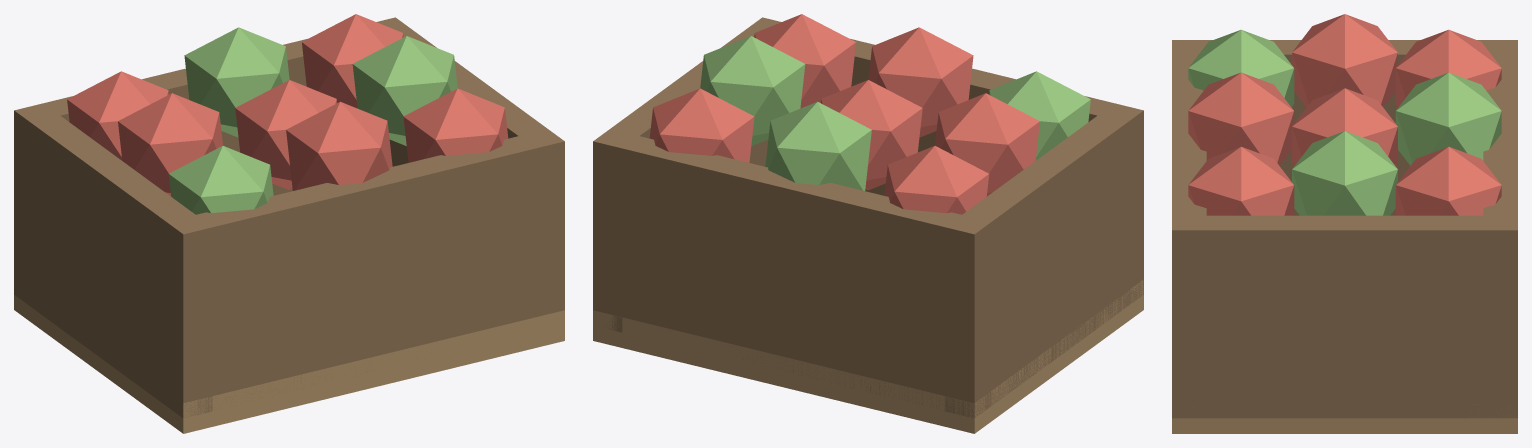
The model's file is CrateOpen.glb.
The picture shows the model from 3 angles, left to right: view 1: azimuth 30°, elevation 25°; view 2: azimuth 150°, elevation 25°; view 3: azimuth 270°, elevation 25°; orthographic projection. The views are drawn at different scales.
Visible parts, largest first — view 1: CrateOpen_Side, CrateOpen_End, CrateOpen_Bottom, CrateOpen_Apple.003, CrateOpen_Apple.007, CrateOpen_Apple.005, CrateOpen_Apple.001, CrateOpen_Apple.006, CrateOpen_Apple, CrateOpen_Apple.004, CrateOpen_Apple.008, CrateOpen_Apple.002 (+2 smaller); view 2: CrateOpen_Side.001, CrateOpen_End, CrateOpen_Bottom, CrateOpen_End.001, CrateOpen_Apple.005, CrateOpen_Apple.007, CrateOpen_Apple.003, CrateOpen_Apple.001, CrateOpen_Apple.008, CrateOpen_Apple.002, CrateOpen_Apple.004, CrateOpen_Apple.006 (+2 smaller); view 3: CrateOpen_End.001, CrateOpen_Apple.007, CrateOpen_Apple.001, CrateOpen_Apple.003, CrateOpen_Apple.005, CrateOpen_Apple.006, CrateOpen_Apple.008, CrateOpen_Bottom, CrateOpen_Apple.004, CrateOpen_Apple, CrateOpen_Apple.002, CrateOpen_Side (+2 smaller).
Part boxes in pixels (left/top/right/bottom): CrateOpen_Side: left=167, top=135, right=564, bottom=414; CrateOpen_End: left=14, top=103, right=212, bottom=417; CrateOpen_Bottom: left=14, top=295, right=564, bottom=433; CrateOpen_Apple.003: left=286, top=101, right=392, bottom=190; CrateOpen_Apple.007: left=352, top=36, right=457, bottom=145; CrateOpen_Apple.005: left=184, top=27, right=289, bottom=137; CrateOpen_Apple.001: left=118, top=93, right=222, bottom=196; CrateOpen_Apple.006: left=403, top=88, right=508, bottom=162; CrateOpen_Apple: left=168, top=146, right=273, bottom=214; CrateOpen_Apple.004: left=235, top=80, right=336, bottom=190; CrateOpen_Apple.008: left=302, top=14, right=403, bottom=108; CrateOpen_Apple.002: left=67, top=71, right=168, bottom=160; CrateOpen_Side.001: left=593, top=136, right=991, bottom=415; CrateOpen_End: left=945, top=103, right=1143, bottom=418; CrateOpen_Bottom: left=593, top=279, right=1143, bottom=433; CrateOpen_End.001: left=593, top=17, right=780, bottom=332; CrateOpen_Apple.005: left=765, top=101, right=871, bottom=190; CrateOpen_Apple.007: left=700, top=36, right=805, bottom=145; CrateOpen_Apple.003: left=868, top=27, right=973, bottom=137; CrateOpen_Apple.001: left=935, top=93, right=1039, bottom=196; CrateOpen_Apple.008: left=649, top=88, right=754, bottom=162; CrateOpen_Apple.002: left=884, top=146, right=989, bottom=214; CrateOpen_Apple.004: left=821, top=80, right=922, bottom=190; CrateOpen_Apple.006: left=754, top=14, right=855, bottom=108; CrateOpen_End.001: left=1172, top=215, right=1517, bottom=418; CrateOpen_Apple.007: left=1292, top=131, right=1397, bottom=215; CrateOpen_Apple.001: left=1292, top=14, right=1397, bottom=107; CrateOpen_Apple.003: left=1188, top=72, right=1294, bottom=165; CrateOpen_Apple.005: left=1395, top=72, right=1501, bottom=165; CrateOpen_Apple.006: left=1188, top=146, right=1294, bottom=215; CrateOpen_Apple.008: left=1395, top=146, right=1501, bottom=215; CrateOpen_Bottom: left=1172, top=404, right=1517, bottom=433; CrateOpen_Apple.004: left=1292, top=88, right=1397, bottom=165; CrateOpen_Apple: left=1188, top=29, right=1294, bottom=106; CrateOpen_Apple.002: left=1395, top=29, right=1501, bottom=106; CrateOpen_Side: left=1172, top=40, right=1206, bottom=315.
Size of the model in its own units: 1.3 by 0.85 by 1.
